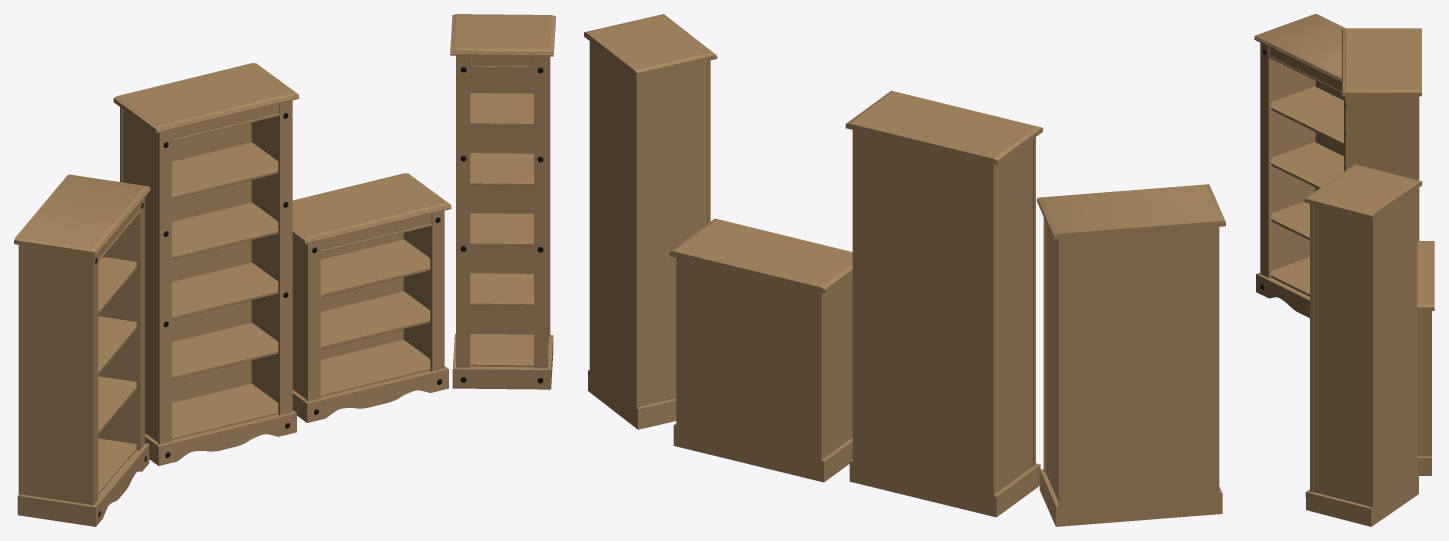
The model's file is Corona  Bookcase Set.dae.
3 renders of one model, left to right at view 1: azimuth 30°, elevation 25°; view 2: azimuth 150°, elevation 25°; view 3: azimuth 270°, elevation 25°, orthographic. The views are drawn at different scales.
Visible parts, largest first — view 1: Corona_Seconique_Tall_Bookcase_003, Corona_Medium_Bookcase_003, Corona_Seconique_Tall_Bookcase_002, Corona_Low__Bookcase_002; view 2: Corona_Seconique_Tall_Bookcase_003, Corona_Medium_Bookcase_003, Corona_Seconique_Tall_Bookcase_002, Corona_Low__Bookcase_002; view 3: Corona_Seconique_Tall_Bookcase_002, Corona_Medium_Bookcase_003, Corona_Seconique_Tall_Bookcase_003, Corona_Low__Bookcase_002.
Boxes of the visible parts, box(x1,y1,x2,y2) form: Corona_Seconique_Tall_Bookcase_003: box(113, 63, 299, 465); Corona_Medium_Bookcase_003: box(14, 174, 150, 526); Corona_Seconique_Tall_Bookcase_002: box(450, 14, 555, 389); Corona_Low__Bookcase_002: box(292, 173, 451, 422); Corona_Seconique_Tall_Bookcase_003: box(845, 90, 1042, 517); Corona_Medium_Bookcase_003: box(1037, 184, 1225, 526); Corona_Seconique_Tall_Bookcase_002: box(584, 14, 717, 429); Corona_Low__Bookcase_002: box(669, 218, 852, 482); Corona_Seconique_Tall_Bookcase_002: box(1304, 164, 1422, 526); Corona_Medium_Bookcase_003: box(1254, 14, 1345, 317); Corona_Seconique_Tall_Bookcase_003: box(1341, 28, 1421, 240); Corona_Low__Bookcase_002: box(1417, 241, 1434, 475).
Bounding box in the file's own units: 3.24 × 0.9547 × 1.83.
